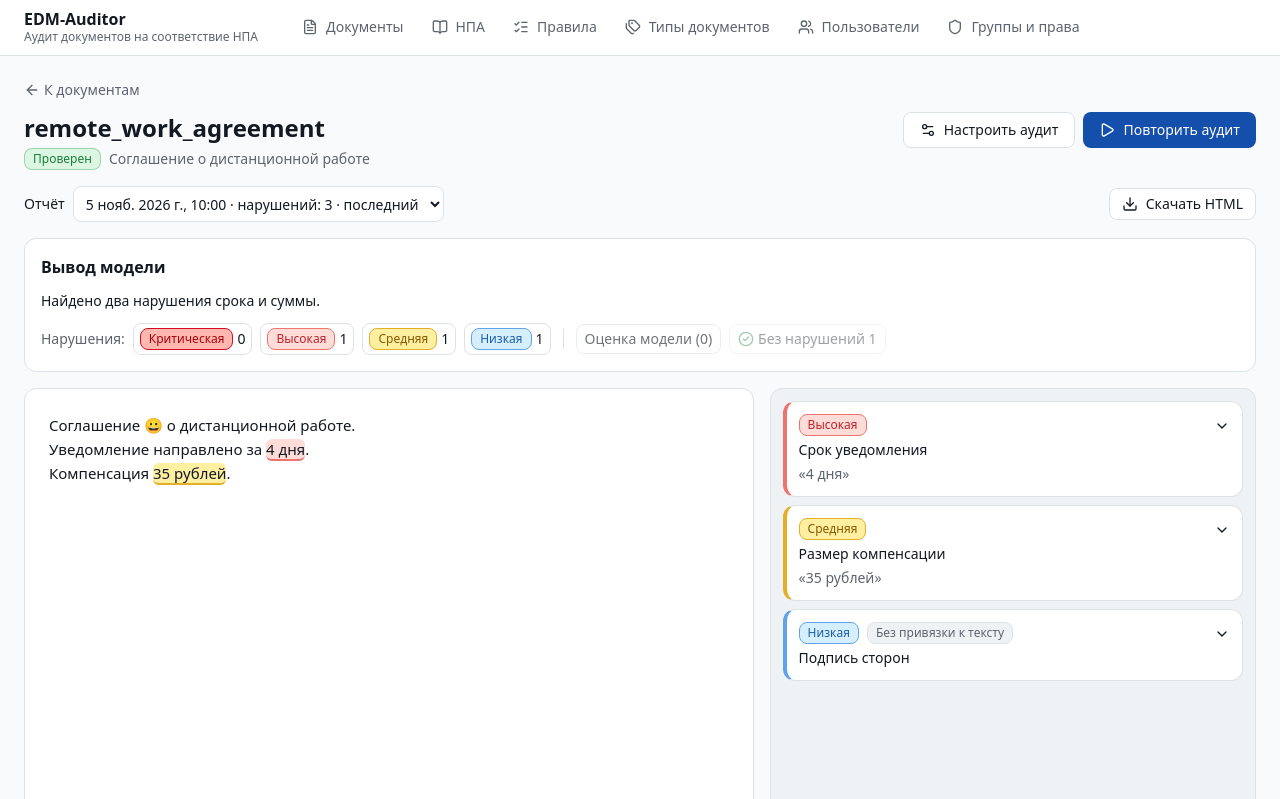
audit screen › opens the card of a highlighted fragment with the model's recommendation
The width and height of the screenshot is (1280, 799).
Click the button "35 рублей": [190, 474] box [153, 463, 226, 485]
(page scrolled)
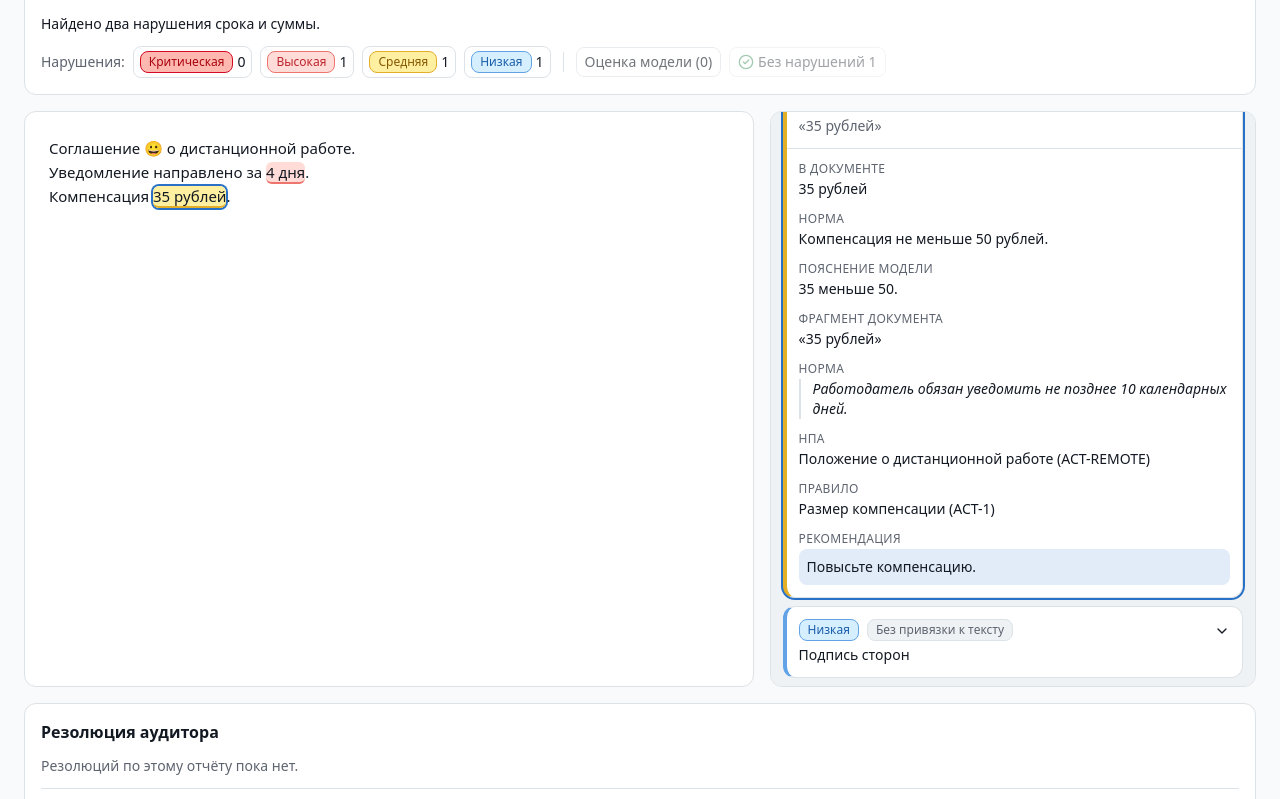
Expected: the text "35 меньше 50." is shown, [799, 279, 898, 298]
Expected: the text "Повысьте компенсацию." is shown, [799, 549, 1230, 585]
Expected: the text "Работодатель обязан уведомить не позднее 10 календарных дней." is shown, [799, 379, 1230, 419]
